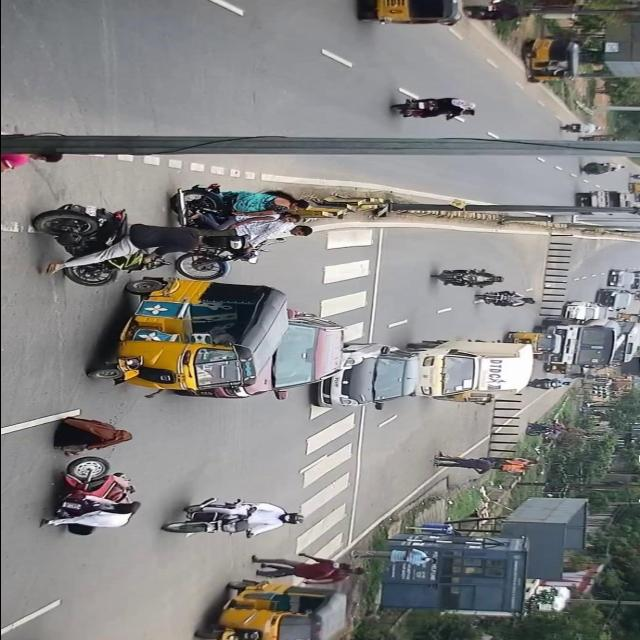accident: (24, 405, 148, 539)
non_accident: (304, 332, 552, 414), (533, 295, 627, 386), (592, 265, 638, 315), (624, 177, 640, 205)
